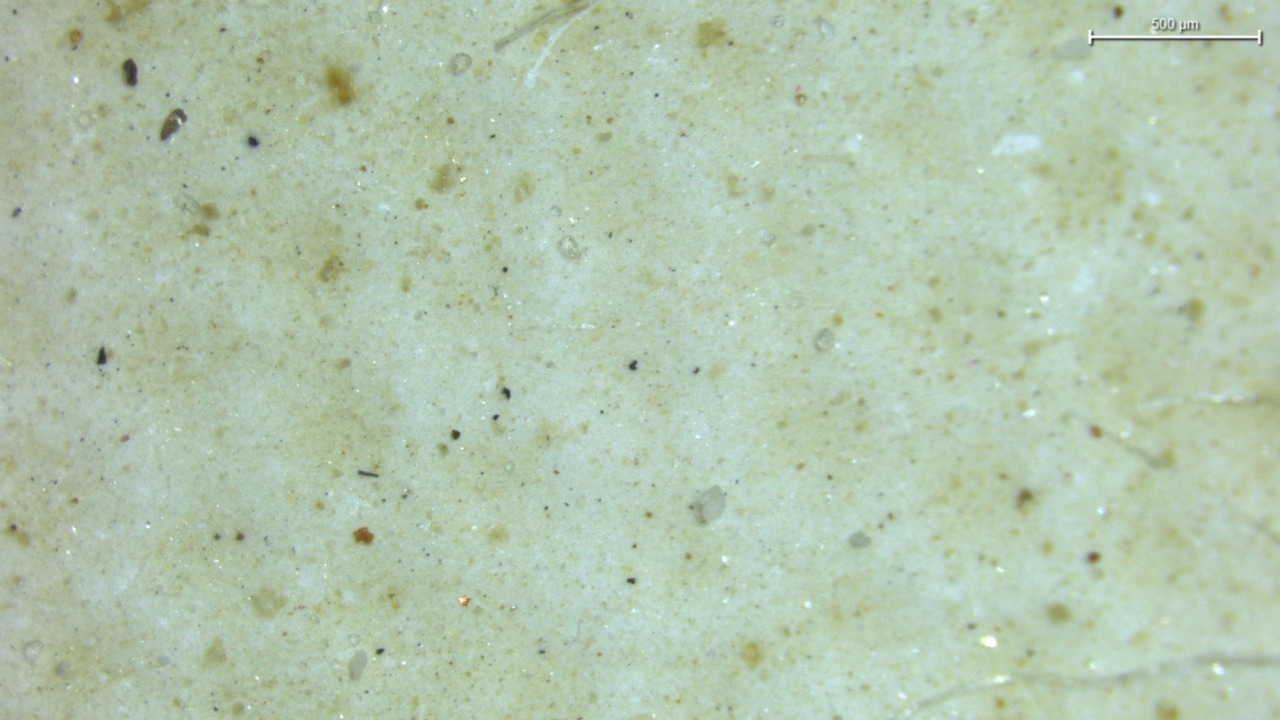microplastic_fragment: (692, 485, 726, 523), (557, 235, 585, 261)
